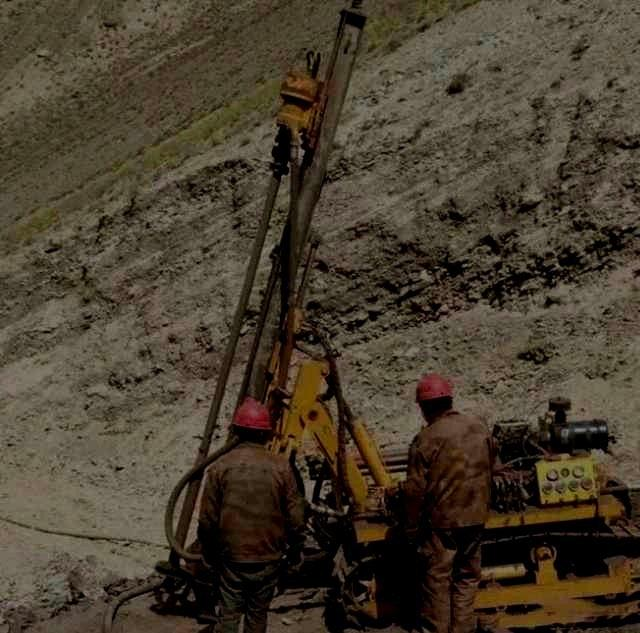helmet: (230, 396, 273, 446), (414, 372, 454, 424)
